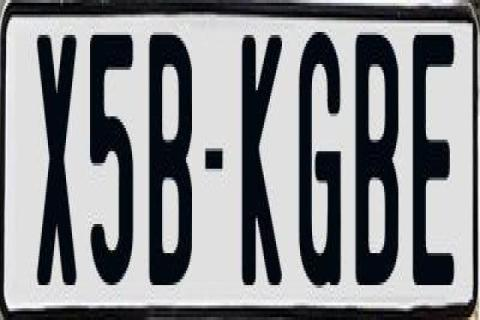0: (90, 35, 134, 288)
B: (146, 27, 196, 280), (354, 35, 398, 297)
E: (409, 27, 458, 280)
G: (298, 29, 346, 288)
K: (240, 32, 284, 282)
X: (34, 26, 76, 288)
